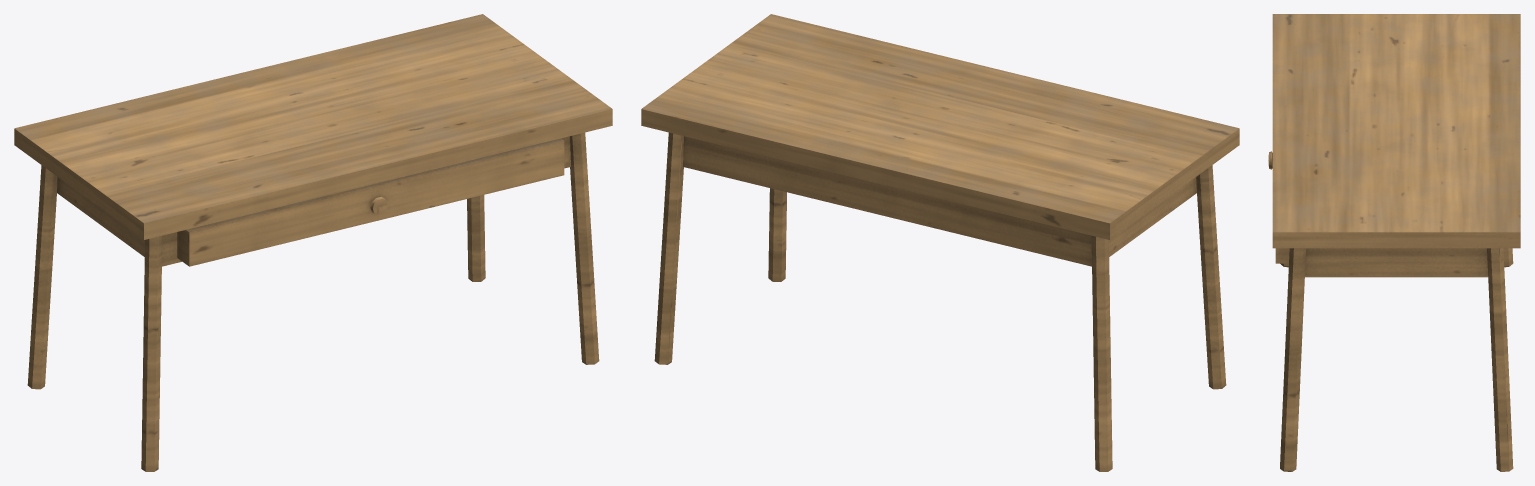
File: H_Desk_School.fbx
3 views of the same model, side by side, from view 1: azimuth 30°, elevation 25°; view 2: azimuth 150°, elevation 25°; view 3: azimuth 270°, elevation 25° (orthographic). The views are drawn at different scales.
Visible parts, largest first — view 1: H_Desk_School; view 2: H_Desk_School; view 3: H_Desk_School.
Part boxes in pixels (x1,y1,x2,y2): H_Desk_School: (14,14,612,471); H_Desk_School: (641,14,1239,471); H_Desk_School: (1268,14,1520,471).
Bounding box in the file's own units: 500 × 260 × 244.
Materials: 1 (1 with a texture image).
